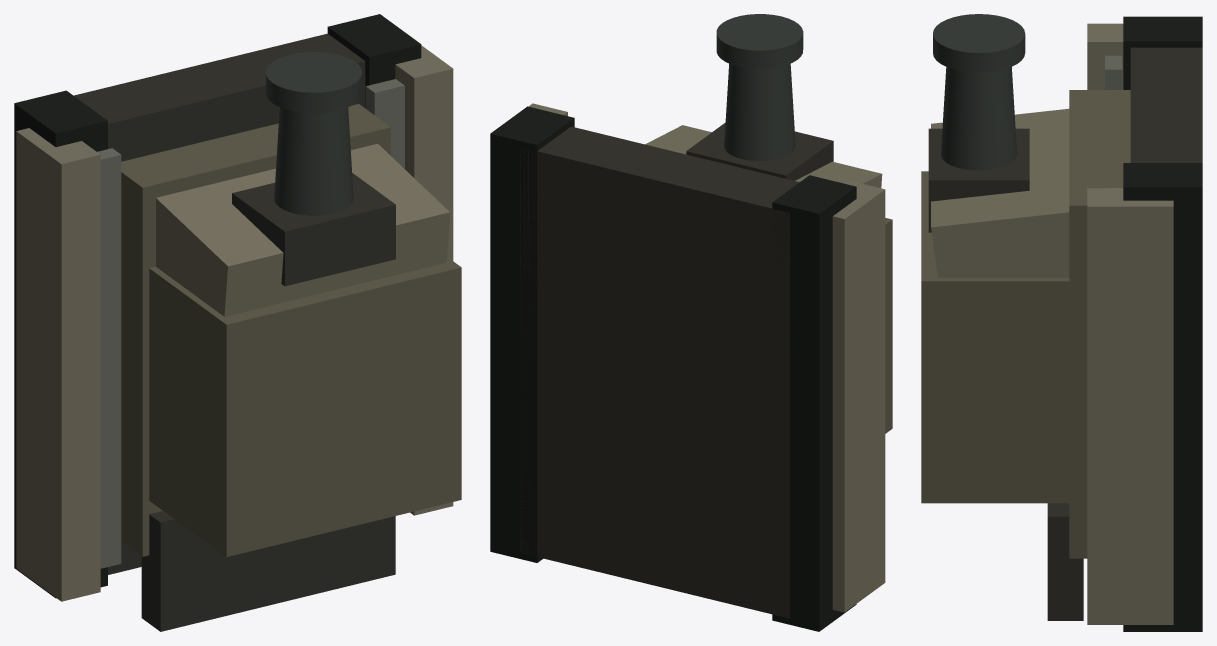
The picture shows the model from 3 angles, left to right: view 1: azimuth 30°, elevation 25°; view 2: azimuth 150°, elevation 25°; view 3: azimuth 270°, elevation 25°; orthographic projection. The views are drawn at different scales.
Visible parts, largest first — view 1: boxy_assault_casemate, left_tiger_skirt, casemate_front_plate, heavy_hull_upper, rear_engine_deck, tiger_hull_lower, rw61_mantlet_block, left_track_guard, rw61_rocket_mortar_tube, right_tiger_skirt, left_track_rubber, wide_mortar_muzzle (+2 smaller); view 2: tiger_hull_lower, right_track_rubber, left_tiger_skirt, left_track_rubber, rw61_rocket_mortar_tube, wide_mortar_muzzle, rw61_mantlet_block, casemate_front_plate, boxy_assault_casemate; view 3: right_tiger_skirt, boxy_assault_casemate, right_track_rubber, casemate_front_plate, heavy_hull_upper, tiger_hull_lower, rw61_rocket_mortar_tube, wide_mortar_muzzle, rw61_mantlet_block, rear_engine_deck, left_track_rubber, left_tiger_skirt (+1 smaller).
Boxes of the visible parts, <box> form: boxy_assault_casemate: <box>149,257,461,557</box>; left_tiger_skirt: <box>16,128,100,601</box>; casemate_front_plate: <box>156,143,449,316</box>; heavy_hull_upper: <box>121,104,390,556</box>; rear_engine_deck: <box>141,511,395,631</box>; tiger_hull_lower: <box>74,33,365,574</box>; rw61_mantlet_block: <box>232,173,395,286</box>; left_track_guard: <box>97,148,121,568</box>; rw61_rocket_mortar_tube: <box>274,107,353,215</box>; right_tiger_skirt: <box>395,45,453,515</box>; left_track_rubber: <box>14,90,107,598</box>; wide_mortar_muzzle: <box>266,52,362,113</box>; tiger_hull_lower: <box>519,126,799,618</box>; right_track_rubber: <box>490,106,574,562</box>; left_tiger_skirt: <box>832,181,885,612</box>; left_track_rubber: <box>772,175,856,631</box>; rw61_rocket_mortar_tube: <box>724,63,795,160</box>; wide_mortar_muzzle: <box>716,14,803,68</box>; rw61_mantlet_block: <box>686,122,833,180</box>; casemate_front_plate: <box>645,125,882,188</box>; boxy_assault_casemate: <box>885,218,892,433</box>; right_tiger_skirt: <box>1087,188,1173,624</box>; boxy_assault_casemate: <box>921,171,1069,503</box>; right_track_rubber: <box>1123,163,1202,631</box>; casemate_front_plate: <box>931,108,1069,277</box>; heavy_hull_upper: <box>1069,90,1130,558</box>; tiger_hull_lower: <box>1130,47,1202,162</box>; rw61_rocket_mortar_tube: <box>941,67,1017,170</box>; wide_mortar_muzzle: <box>933,14,1025,72</box>; rw61_mantlet_block: <box>928,128,1029,232</box>; rear_engine_deck: <box>1047,503,1083,620</box>; left_track_rubber: <box>1123,16,1202,89</box>; left_tiger_skirt: <box>1087,23,1123,89</box>.
Bounding box in the file's own units: 60 × 81.5 × 39.
